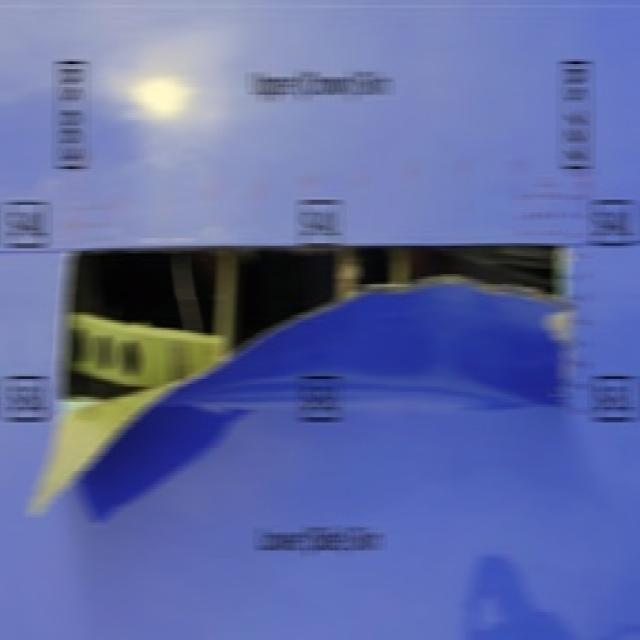crack: (31, 244, 572, 518)
